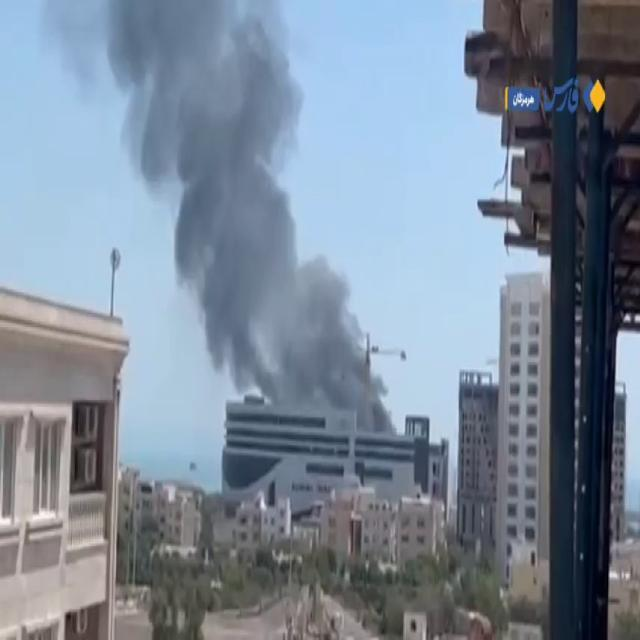Smoke: (190, 186, 356, 412), (106, 0, 304, 179)
